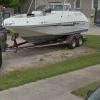Boat: (2, 3, 95, 50)
